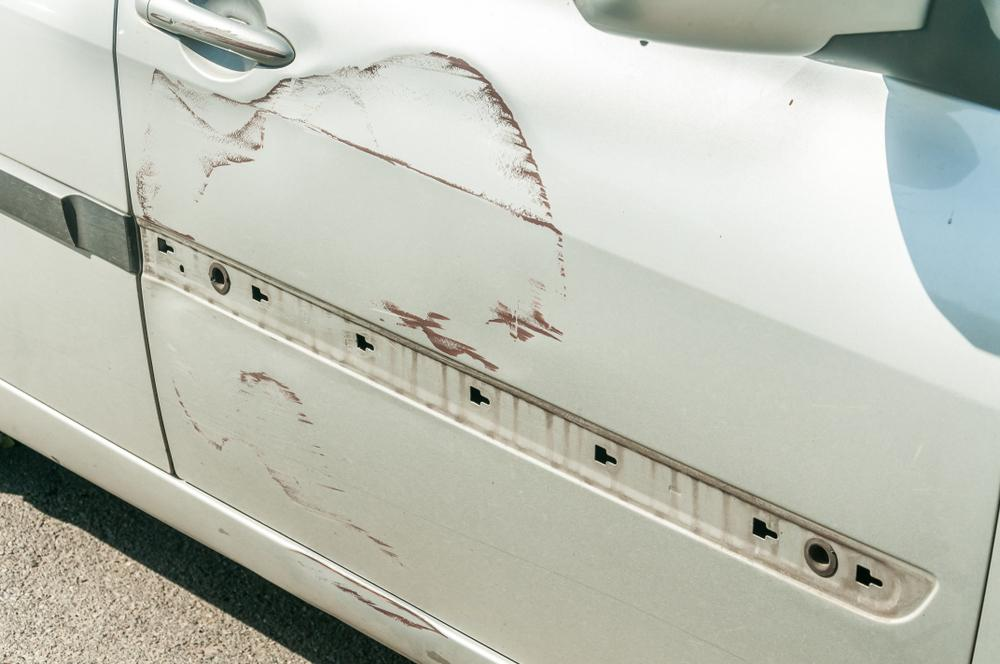scratch: (130, 45, 574, 645)
